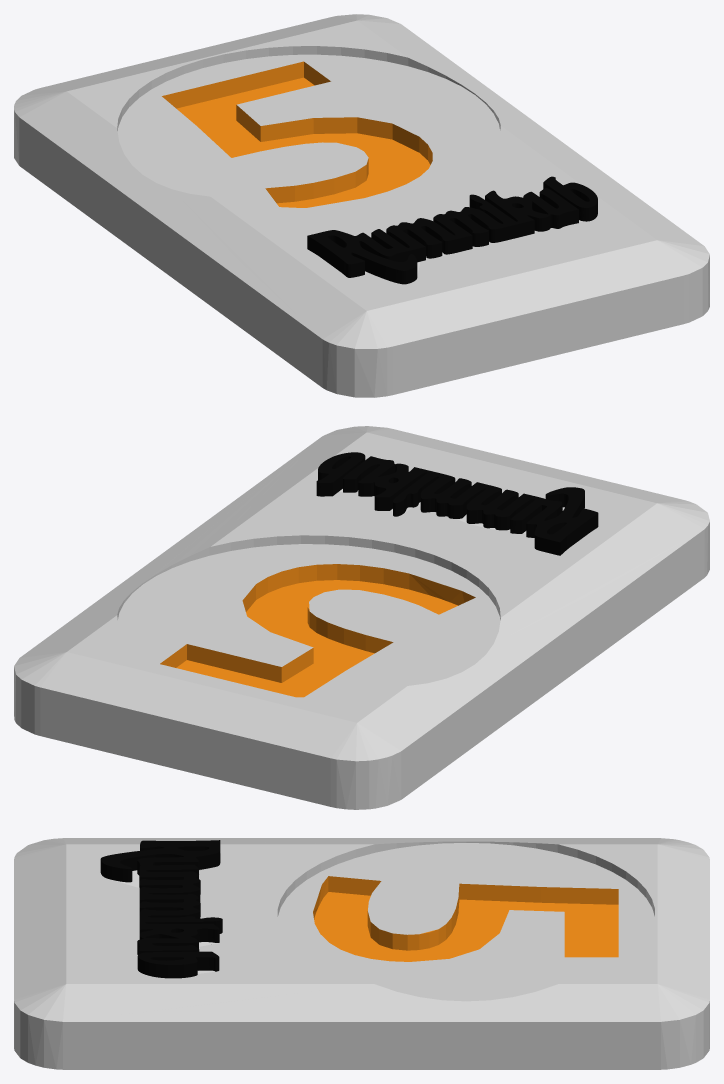
3 renders of one model, top to bottom at view 1: azimuth 30°, elevation 25°; view 2: azimuth 150°, elevation 25°; view 3: azimuth 270°, elevation 25°, orthographic.
Parts seen in each view (by area): view 1: Rummikub 5 Fixed, Rummikub 1 Fixed.001; view 2: Rummikub 5 Fixed, Rummikub 1 Fixed.001; view 3: Rummikub 5 Fixed, Rummikub 1 Fixed.001.
Boxes of the visible parts, <box> form: Rummikub 5 Fixed: <box>14,14,709,397</box>; Rummikub 1 Fixed.001: <box>307,176,597,284</box>; Rummikub 5 Fixed: <box>14,426,709,809</box>; Rummikub 1 Fixed.001: <box>316,452,598,555</box>; Rummikub 5 Fixed: <box>14,838,709,1069</box>; Rummikub 1 Fixed.001: <box>100,840,222,978</box>.
Size of the model in its own units: 2499 by 489 by 4000.
